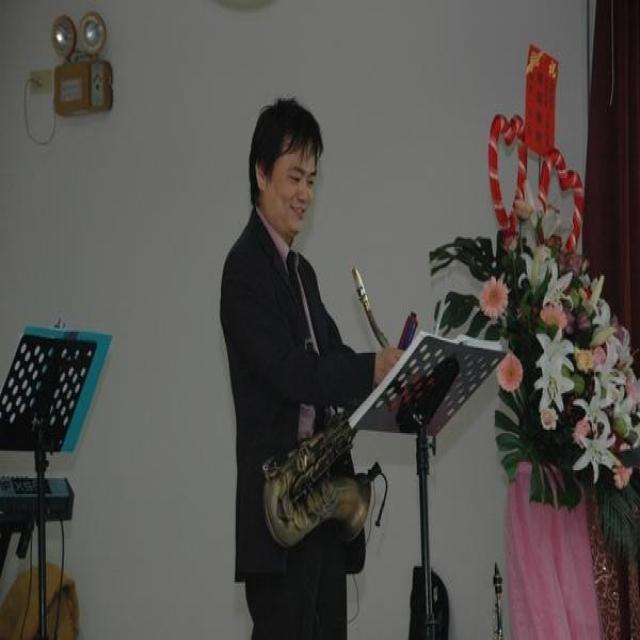saxophone: (258, 268, 400, 553)
